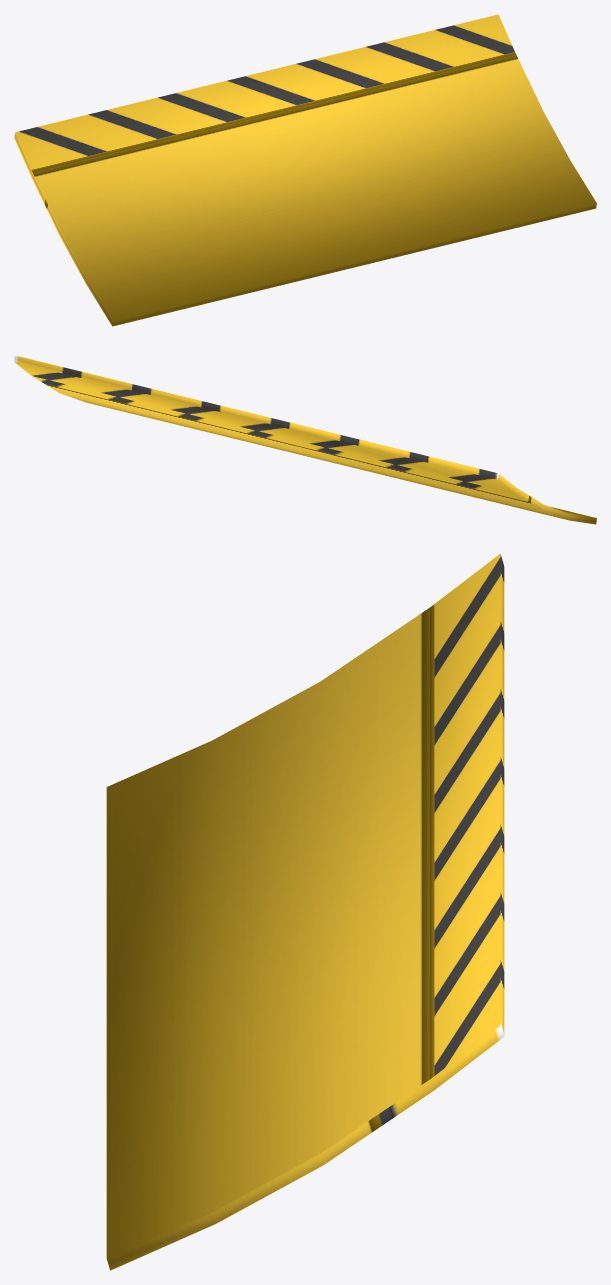
The model's file is ramp.glb.
3 renders of one model, top to bottom at view 1: azimuth 30°, elevation 25°; view 2: azimuth 150°, elevation 25°; view 3: azimuth 270°, elevation 25°, orthographic. The views are drawn at different scales.
Visible parts, largest first — view 1: ramp; view 2: ramp; view 3: ramp.
Part boxes in pixels (x1,y1,x2,y2): ramp: [14, 14, 596, 326]; ramp: [14, 355, 596, 524]; ramp: [106, 553, 504, 1270].
Bounding box in the file's own units: 3.43 × 0.8301 × 1.22.
Materials: 1 (1 with a texture image).
